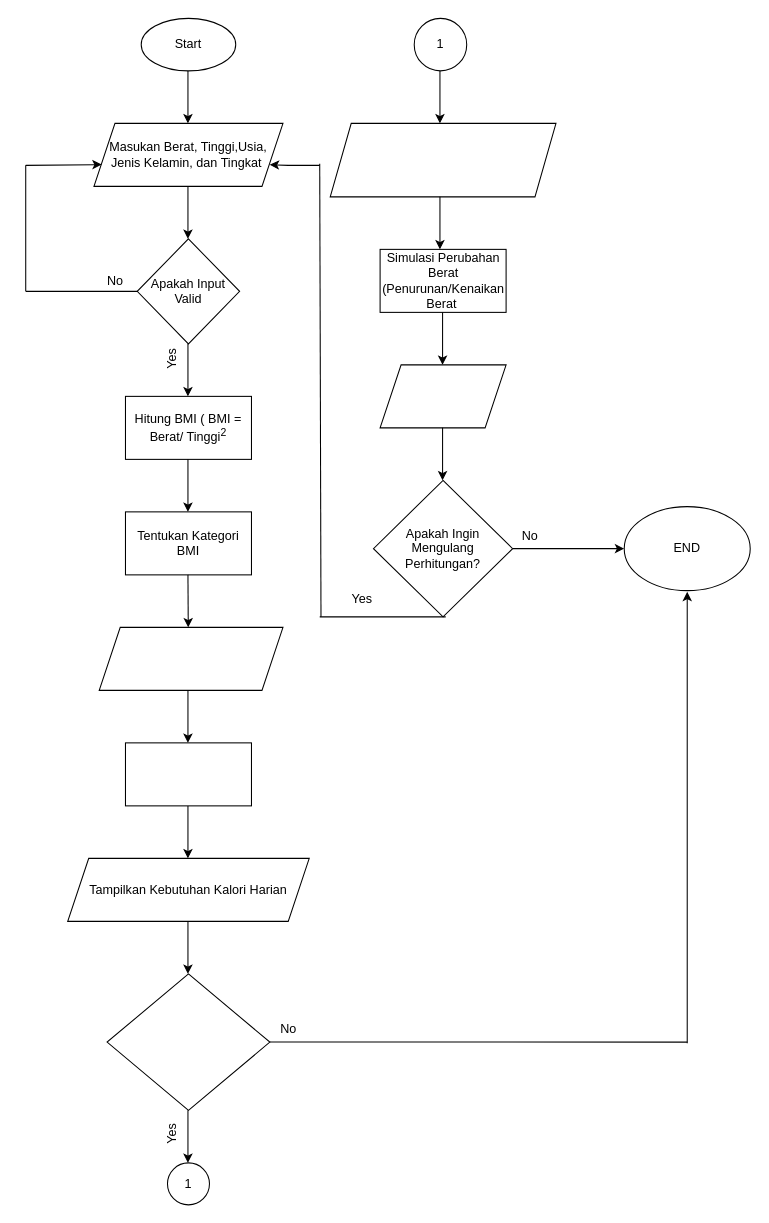
The diagram is 769 pixels wide and 1223 high, and some of its shapes have lost their labels. Here are the shapes that lost their labels. From the top down, the centre of each, then its label:
the point at 442,159: Masukan Target Berat Dan Waktu
the point at 442,396: Tampilkan Hasil Simulasi
the point at 190,658: Tampilkan Hasil BMI dan Kategori
the point at 187,774: Hitung Kebutuhan Kalori Harian (BMR + Aktivitas)
the point at 188,1041: Apakah Ingin Simulasi Perubahan Berat
